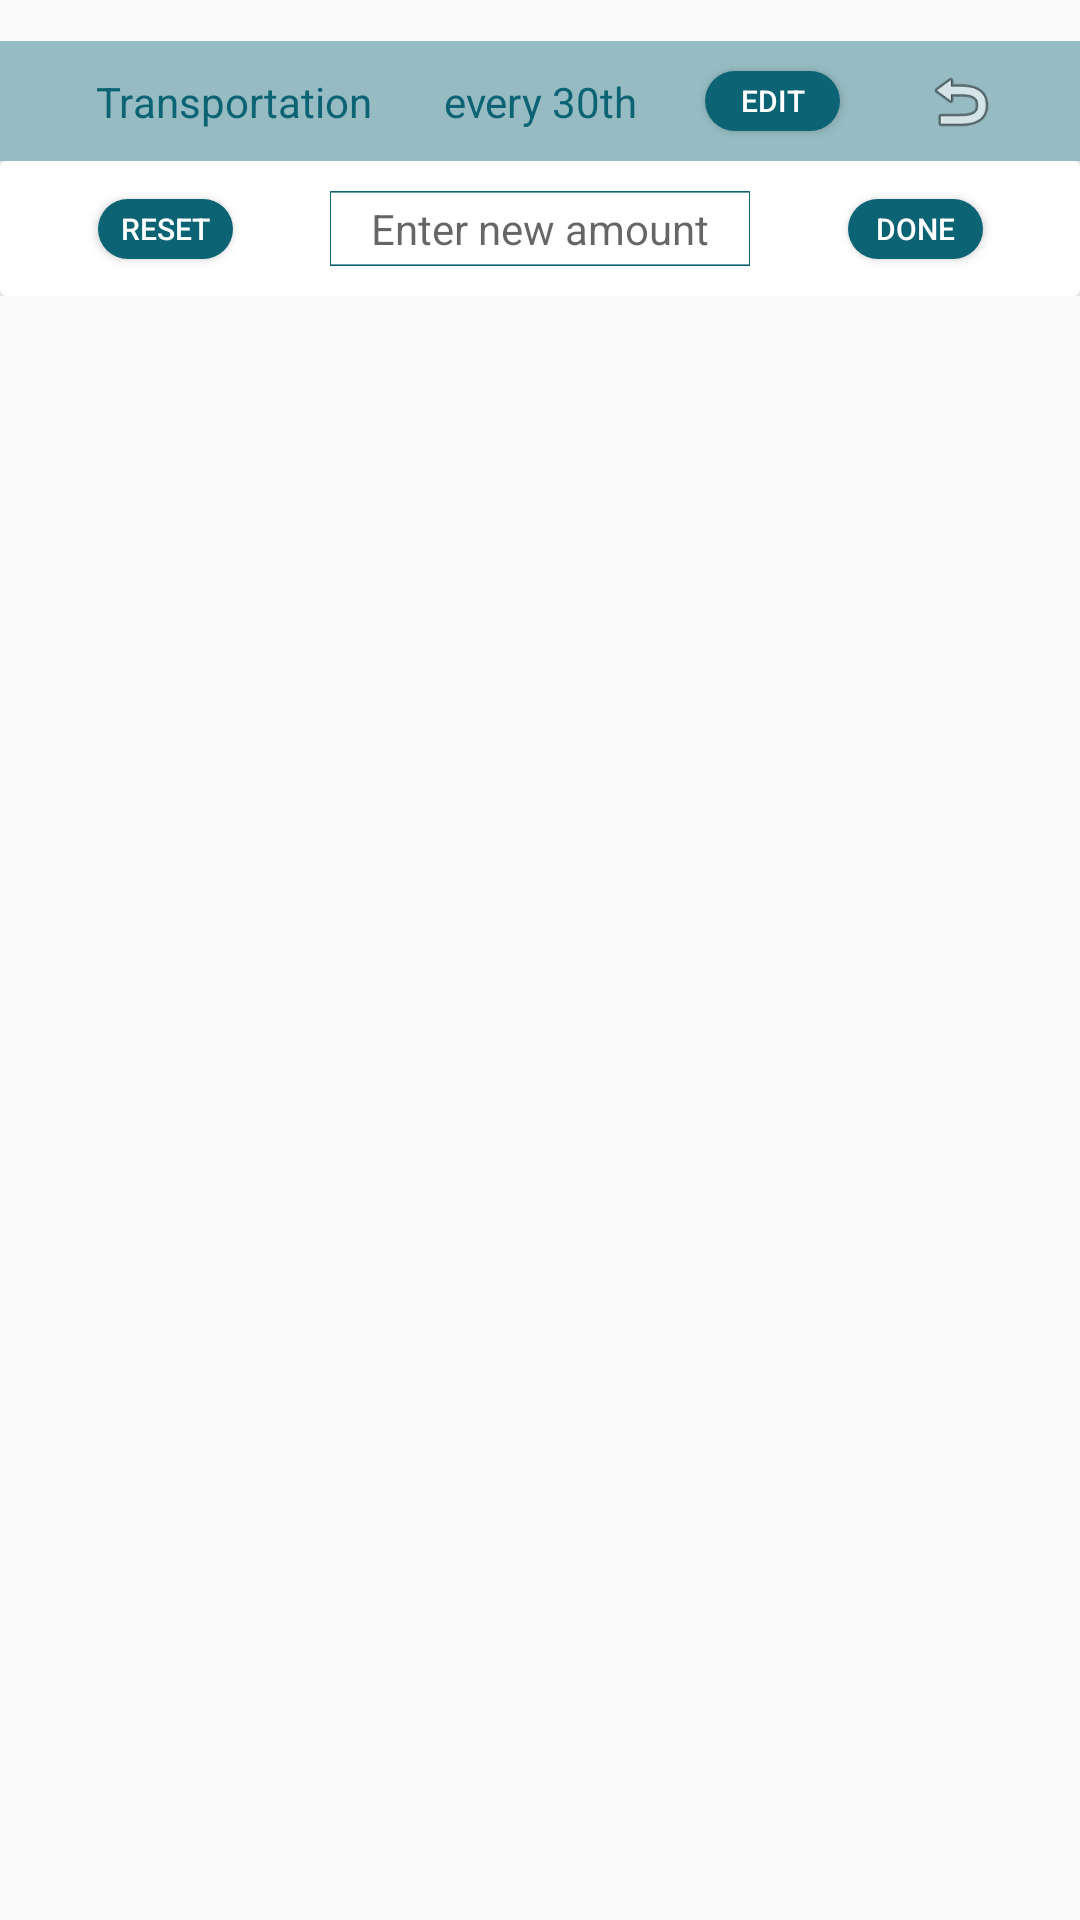

Point at icon controls on the screen. Image size 1080px x 1920px, points as (x,y).
revert: (961,102)
